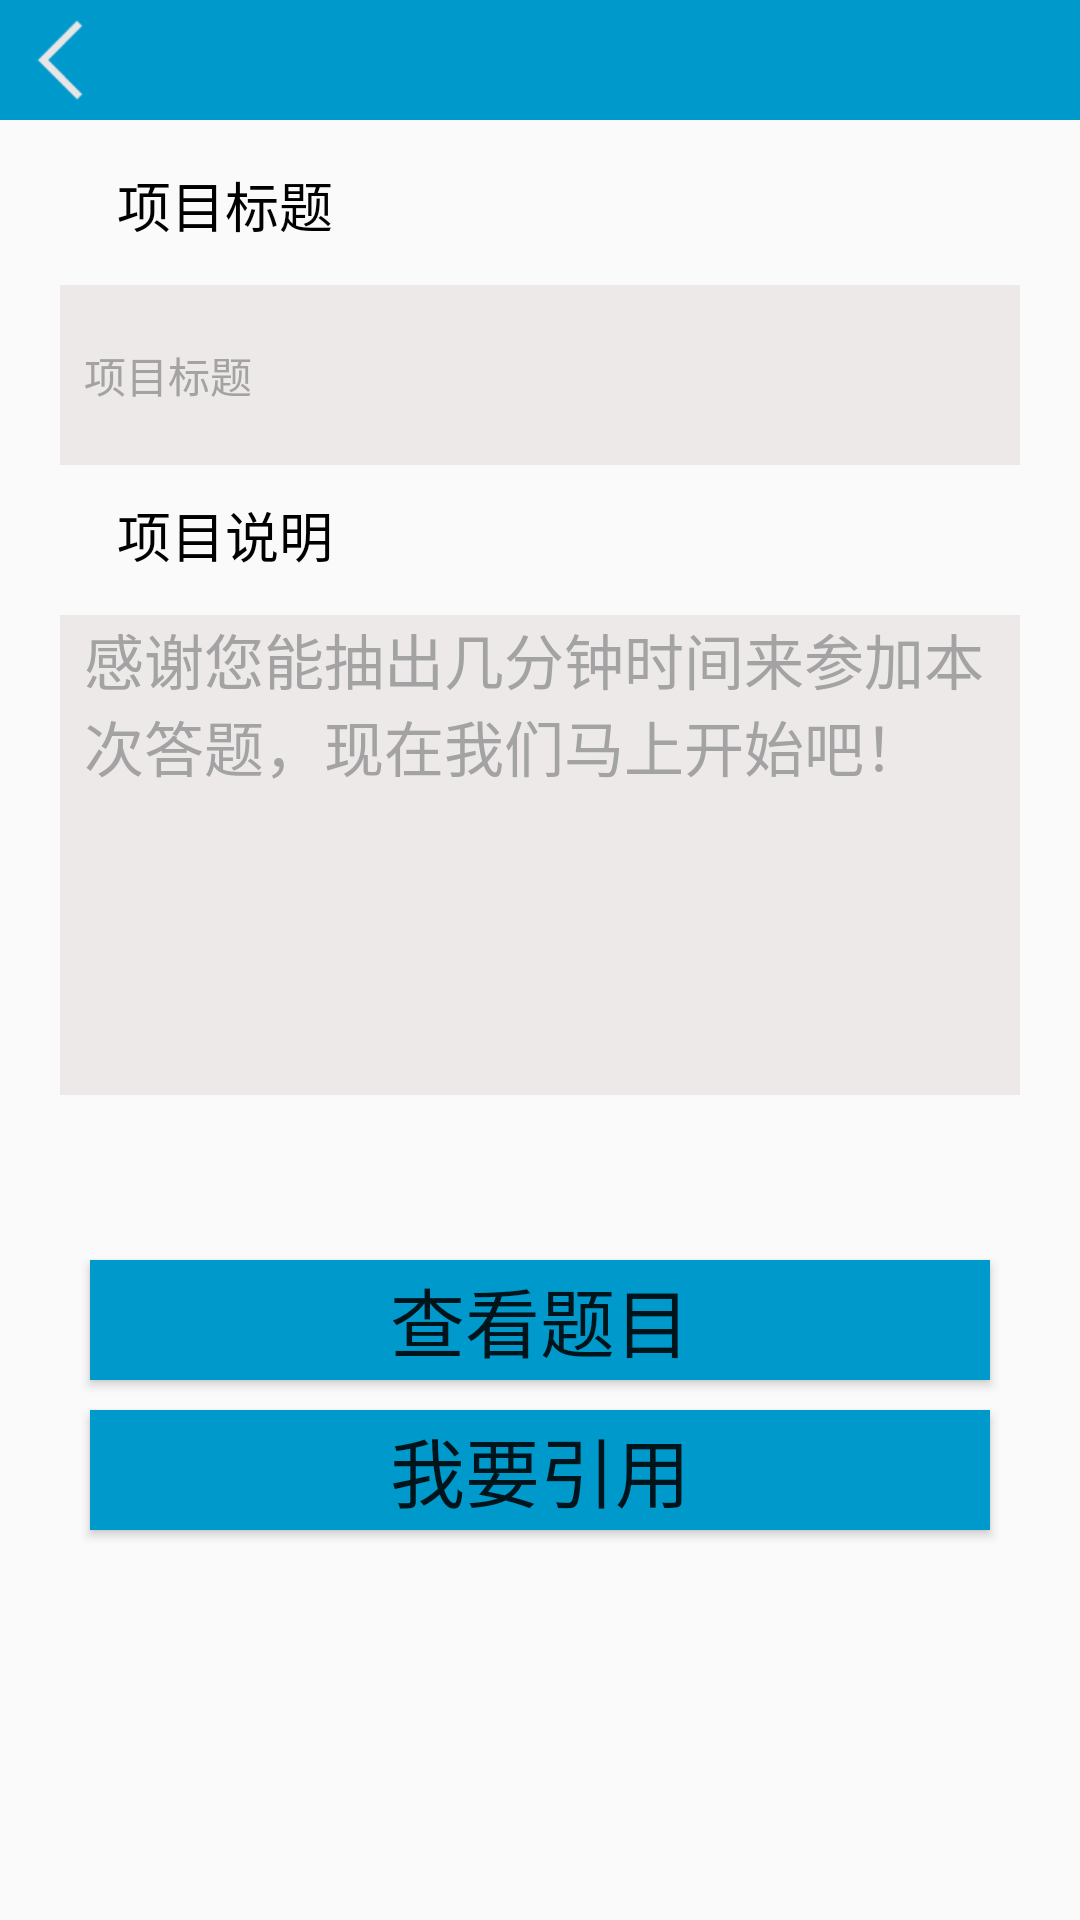

Named icons in this screenshot (1080w x 1920h) and their centers, point (x, y):
back: point (60, 60)
